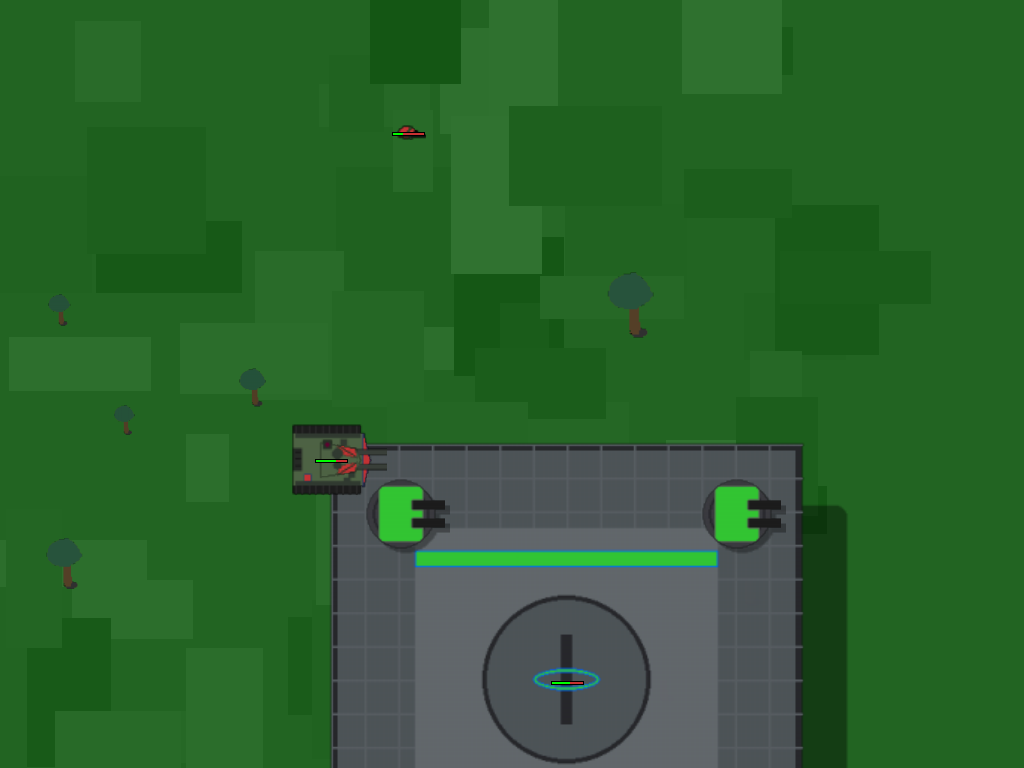FighterJet_usa: (292, 405, 804, 768)
MiningRig: (294, 421, 368, 495)
Sniper: (389, 112, 427, 150)
